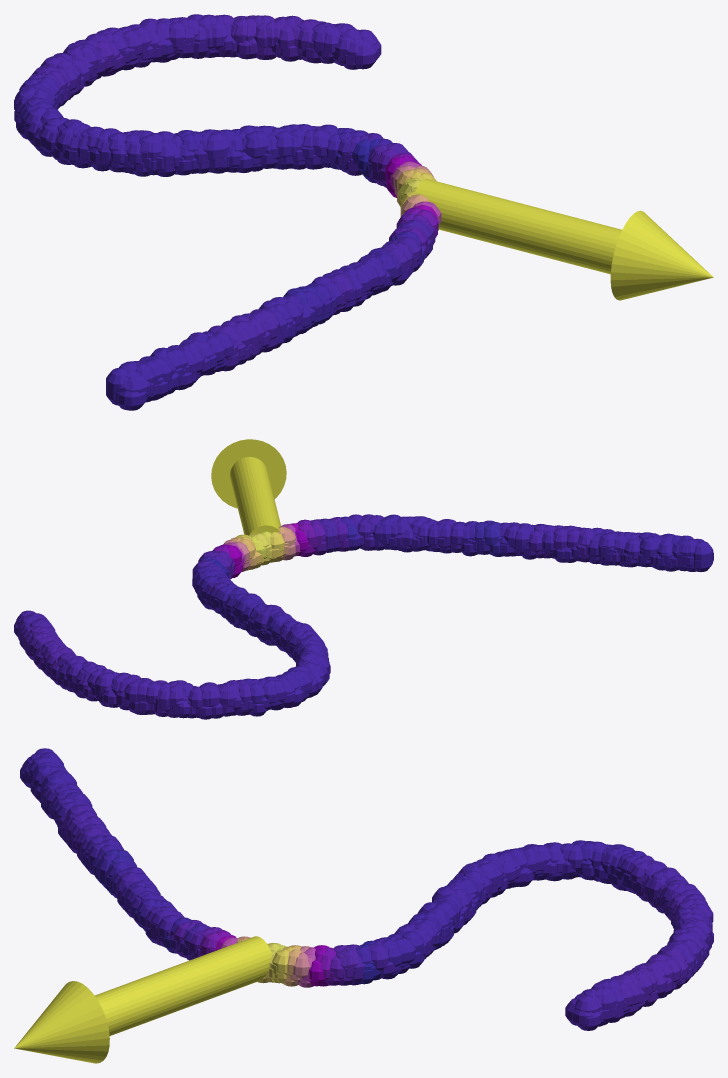
File: pred_heatmap_0.glb
3 views of the same model, one above another, from view 1: azimuth 30°, elevation 25°; view 2: azimuth 150°, elevation 25°; view 3: azimuth 270°, elevation 25° (orthographic). The views are drawn at different scales.
Visible parts, largest first — view 1: world; view 2: world; view 3: world.
Boxes of the visible parts, x1,y1,x2,y2 form: world: (14,14,713,410); world: (14,439,713,719); world: (14,748,713,1063).
Bounding box in the file's own units: 0.8829 × 0.1197 × 0.9677.
